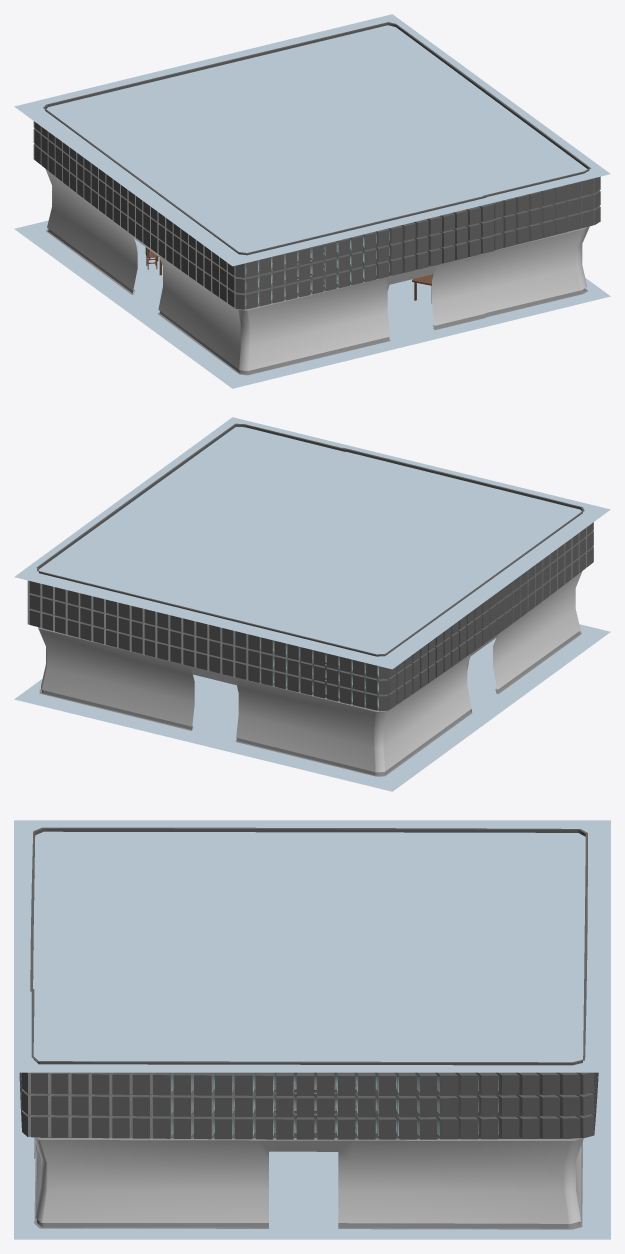
Rendered from m_SmallRoom_4_Conference.fbx.
3 renders of one model, top to bottom at view 1: azimuth 30°, elevation 25°; view 2: azimuth 150°, elevation 25°; view 3: azimuth 270°, elevation 25°, orthographic. The views are drawn at different scales.
Parts seen in each view (by area): view 1: m_smallRoom001.003; view 2: m_smallRoom001.003; view 3: m_smallRoom001.003.
Part boxes in pixels (x1=…): m_smallRoom001.003: x1=14, y1=14, x2=610, y2=388; m_smallRoom001.003: x1=14, y1=417, x2=610, y2=791; m_smallRoom001.003: x1=14, y1=820, x2=610, y2=1239.
Bounding box in the file's own units: 1515 × 478 × 1515.
